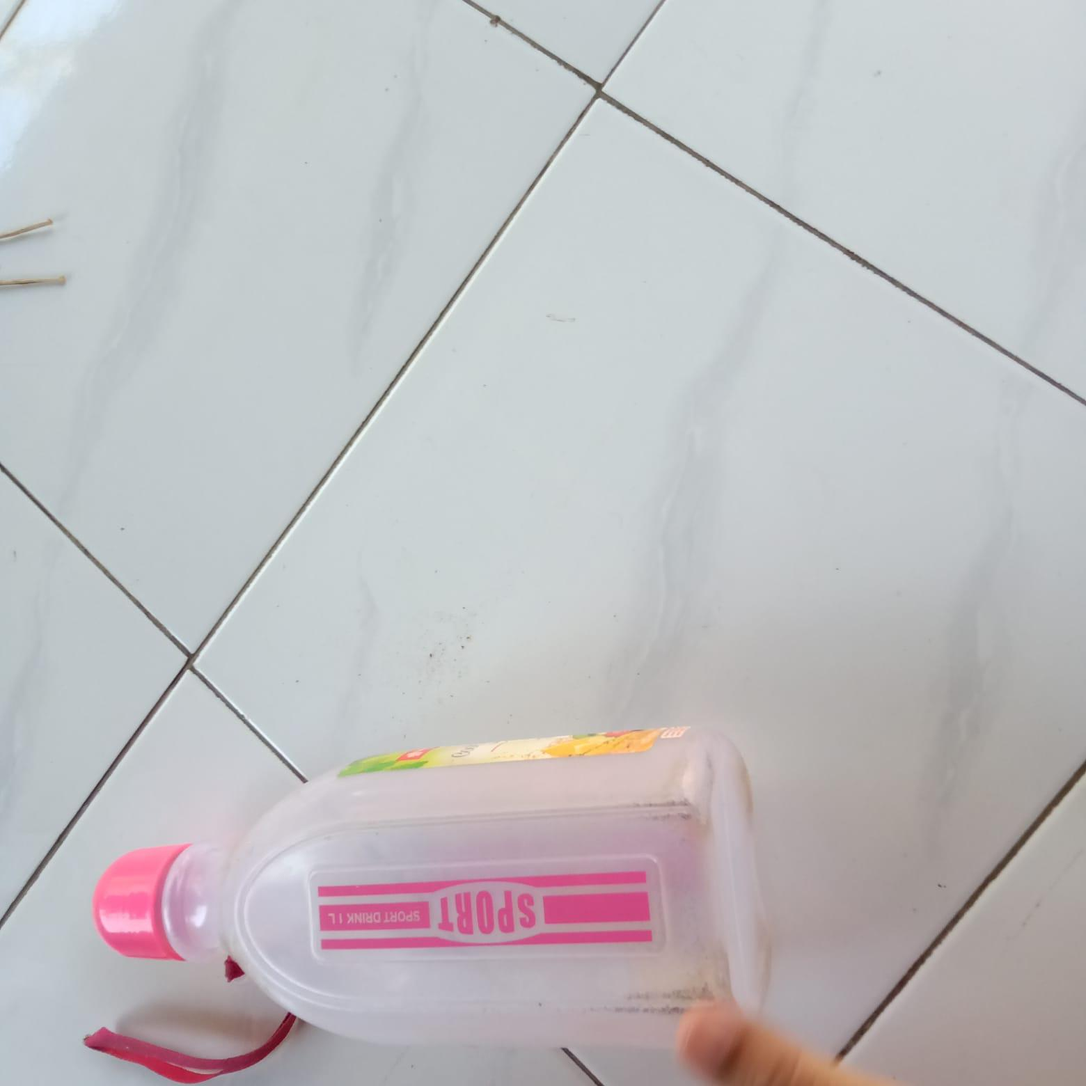Plastik: (93, 724, 770, 1041)
